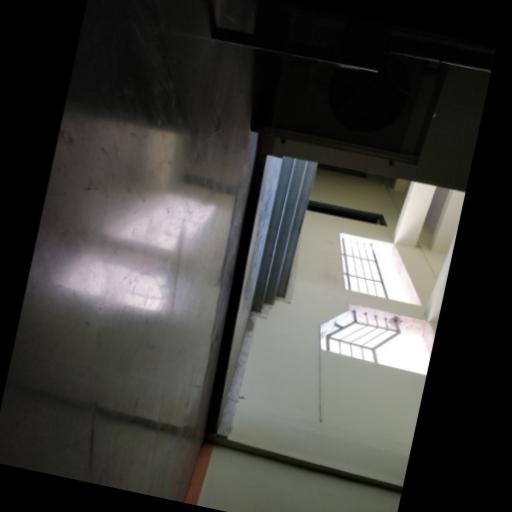stairs: (251, 156, 316, 311)
